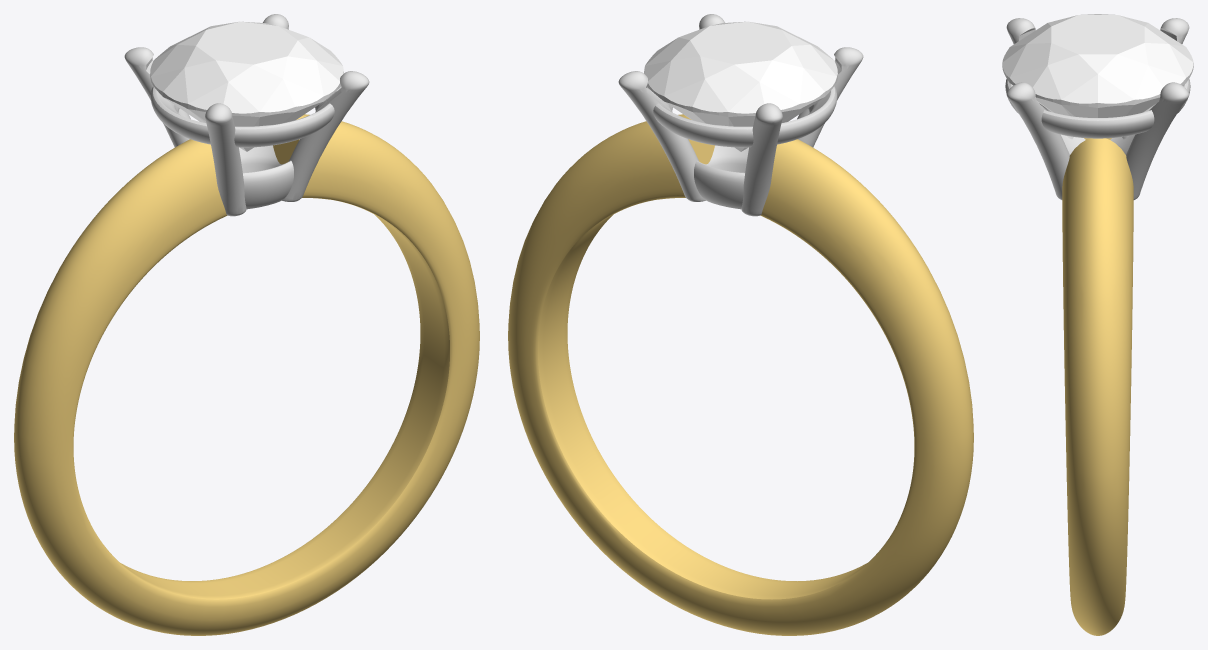
The model's file is test4prongs_webgi.glb.
3 renders of one model, left to right at view 1: azimuth 30°, elevation 25°; view 2: azimuth 150°, elevation 25°; view 3: azimuth 270°, elevation 25°, orthographic.
Parts seen in each view (by area): view 1: Eric_YG_for_3d_model, Eric_dia_for_3d_model, Eric_PT_for_3d_model; view 2: Eric_YG_for_3d_model, Eric_dia_for_3d_model, Eric_PT_for_3d_model; view 3: Eric_YG_for_3d_model, Eric_dia_for_3d_model, Eric_PT_for_3d_model.
Boxes of the visible parts, bbox=[...] form: Eric_YG_for_3d_model: bbox=[14, 114, 479, 635]; Eric_dia_for_3d_model: bbox=[150, 21, 343, 151]; Eric_PT_for_3d_model: bbox=[124, 14, 369, 216]; Eric_YG_for_3d_model: bbox=[508, 114, 973, 635]; Eric_dia_for_3d_model: bbox=[644, 21, 837, 151]; Eric_PT_for_3d_model: bbox=[618, 14, 863, 216]; Eric_YG_for_3d_model: bbox=[1062, 138, 1133, 635]; Eric_dia_for_3d_model: bbox=[1002, 14, 1193, 117]; Eric_PT_for_3d_model: bbox=[1005, 18, 1190, 199].
Size of the model in its own units: 2.47 by 3.01 by 0.9038.
